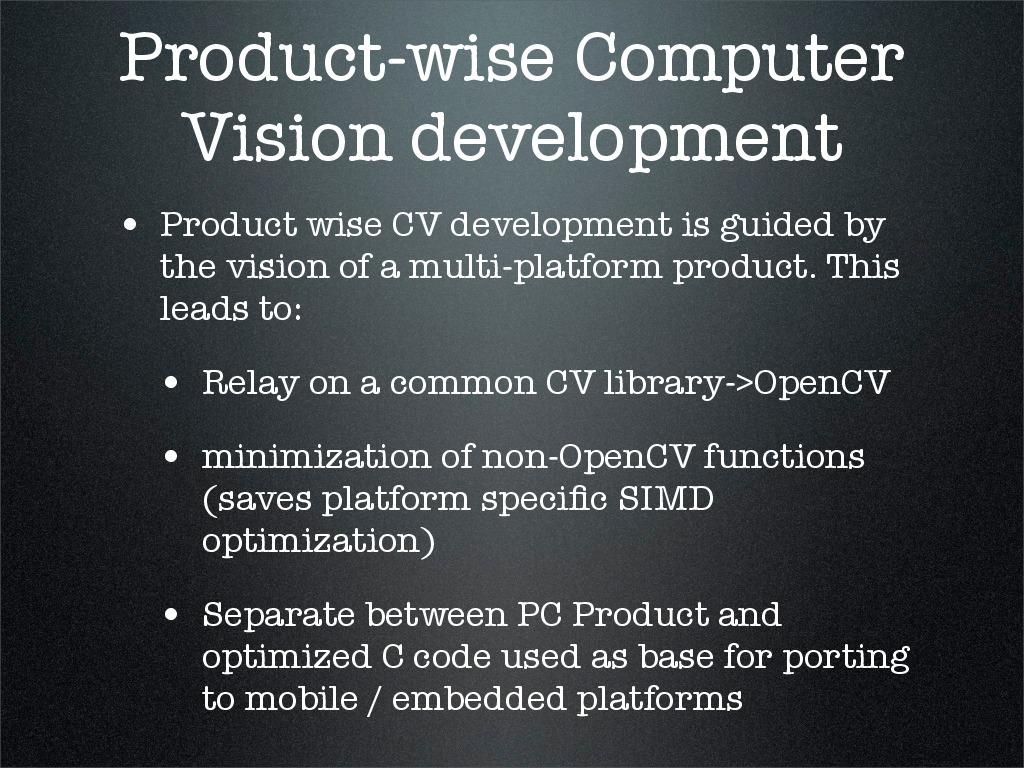paragraph: (98, 196, 974, 739)
title: (101, 17, 933, 191)
